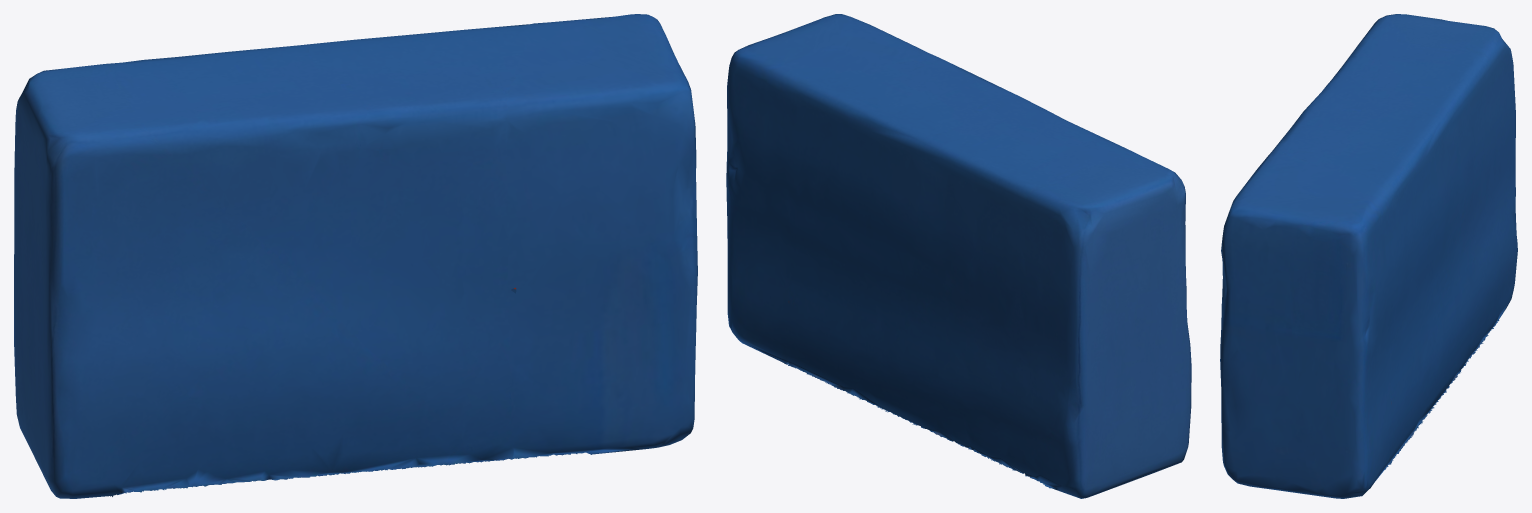
Rendered from block3_orange.glb.
3 renders of one model, left to right at view 1: azimuth 30°, elevation 25°; view 2: azimuth 150°, elevation 25°; view 3: azimuth 270°, elevation 25°, orthographic. The views are drawn at different scales.
Parts seen in each view (by area): view 1: tripo_part_3; view 2: tripo_part_3; view 3: tripo_part_3.
Part boxes in pixels (box(x1,y1,x2,y2)): tripo_part_3: box(14, 14, 697, 498); tripo_part_3: box(726, 14, 1191, 498); tripo_part_3: box(1220, 14, 1517, 498).
Size of the model in its own units: 0.3693 by 0.2175 by 0.21.
Materials: 1 (1 with a texture image).
